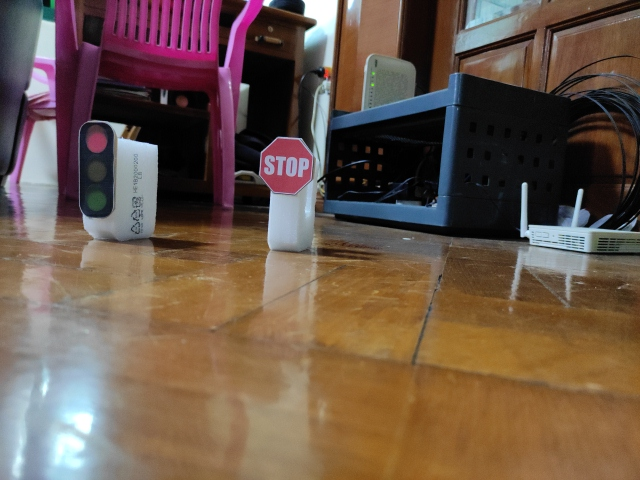Red Traffic Light: (78, 120, 117, 219)
Stop Sign: (259, 135, 315, 197)
